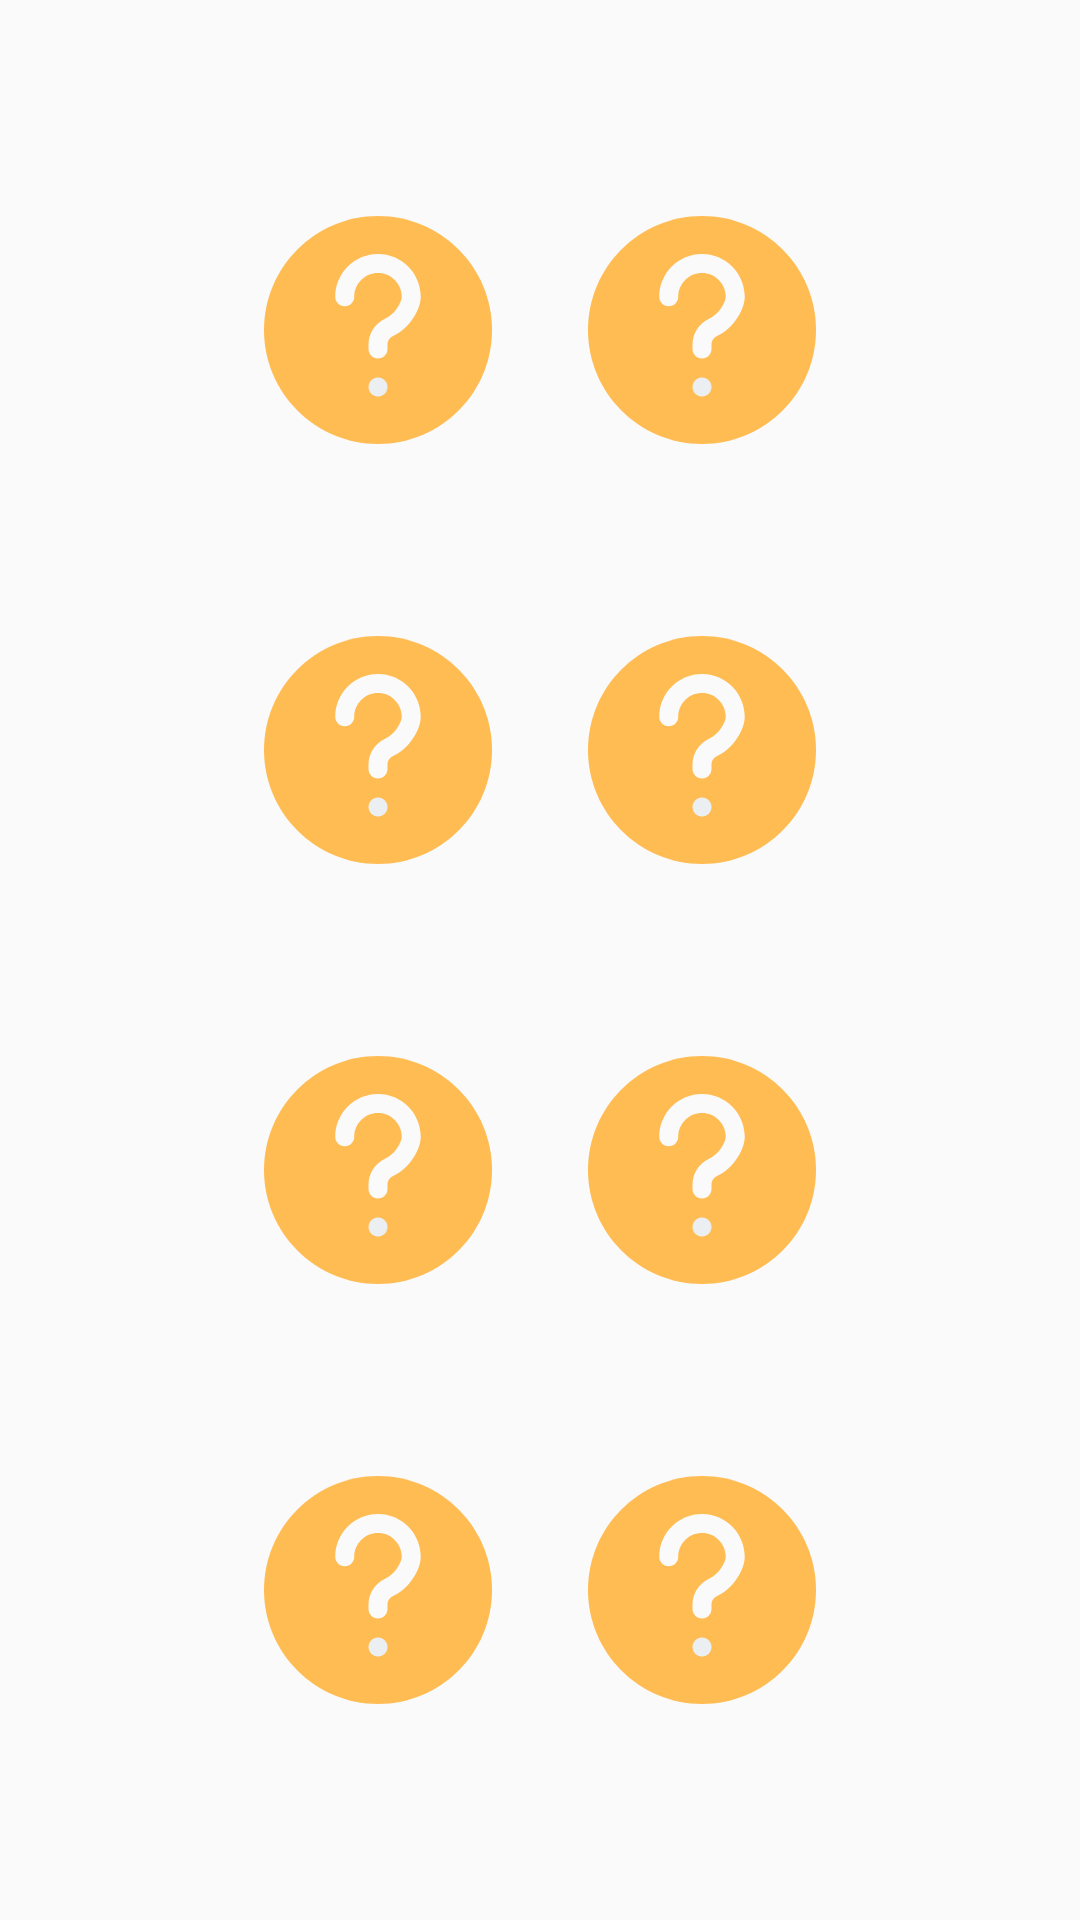

Screen size 1080×1920. Icon name, then its box in pixels as box=[x1, y1, x2, y2]:
question: box=[264, 216, 492, 444], box=[588, 216, 816, 444], box=[264, 636, 492, 864], box=[588, 636, 816, 864], box=[264, 1056, 492, 1284], box=[588, 1056, 816, 1284], box=[264, 1476, 492, 1704], box=[588, 1476, 816, 1704]
